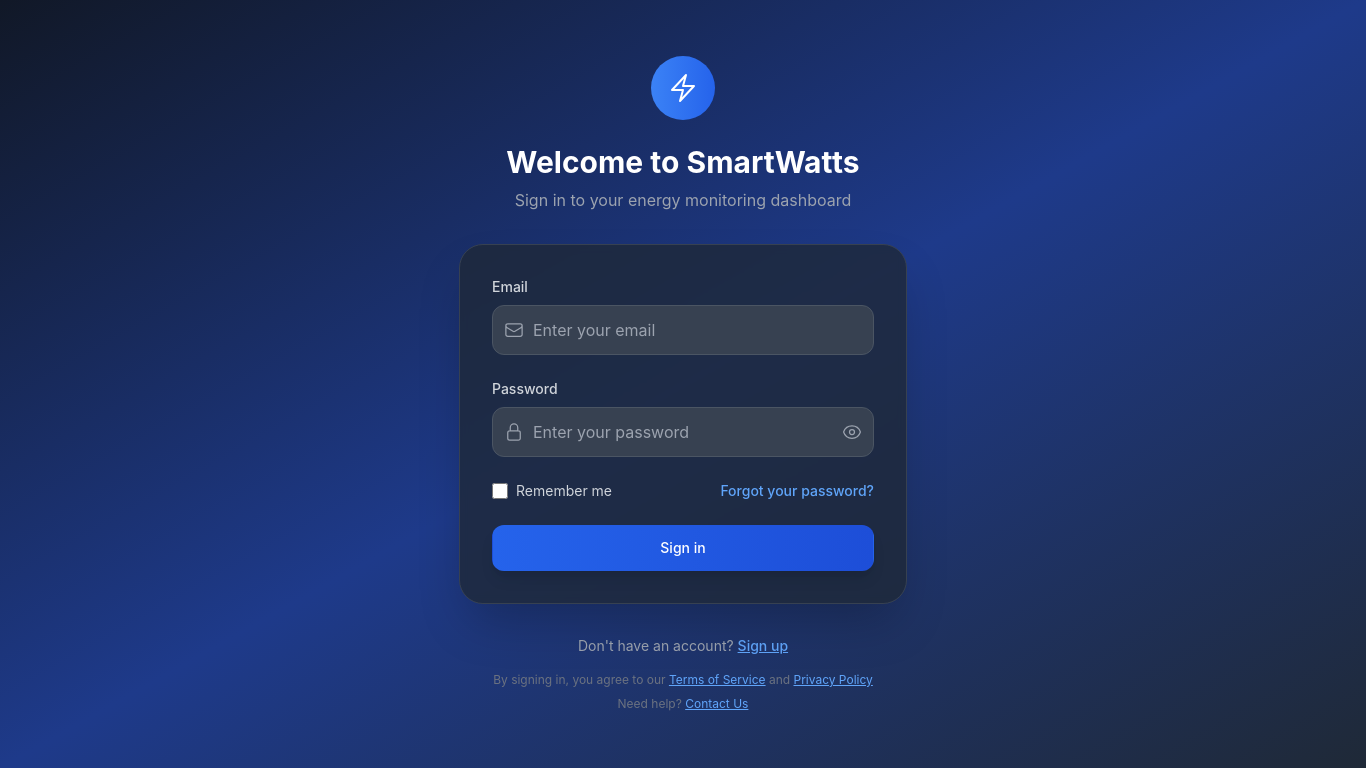
Test: Login Page › validates password length
Step 1. Type "test@example.com" into the field labelled "Email" → (683, 330), box [492,305,874,355]
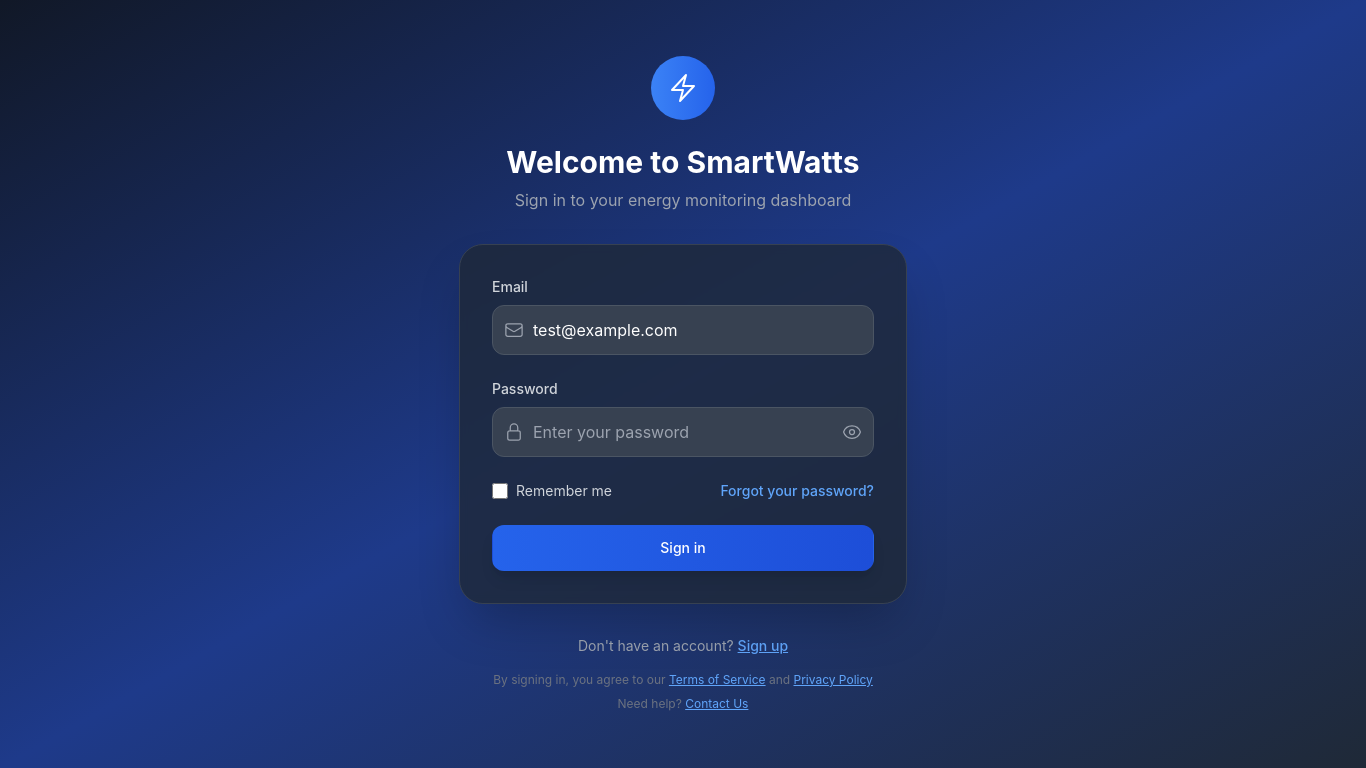
Step 2. Type "12345" into the password field labelled "Password" → (683, 432), box [492,407,874,457]
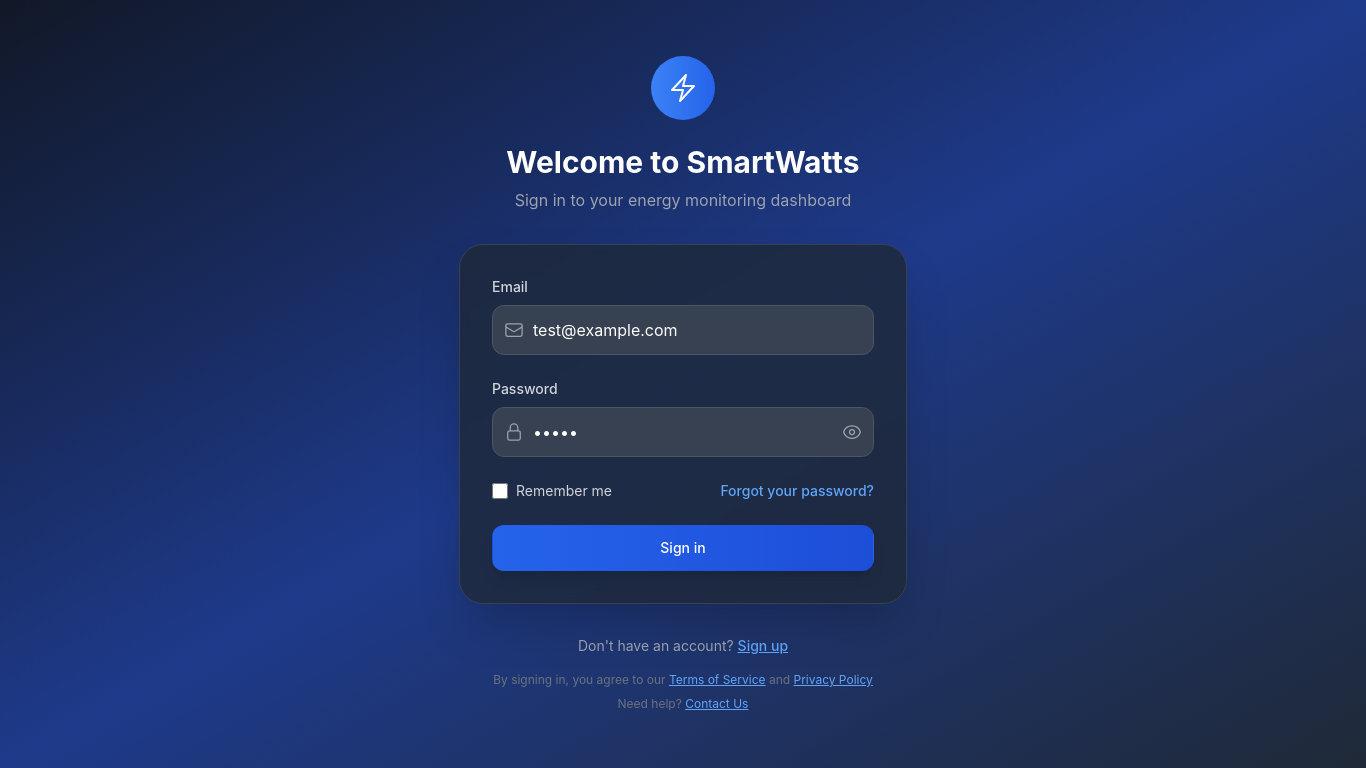
Step 3. Click the button "Sign in" → (683, 548), box [492,525,874,571]
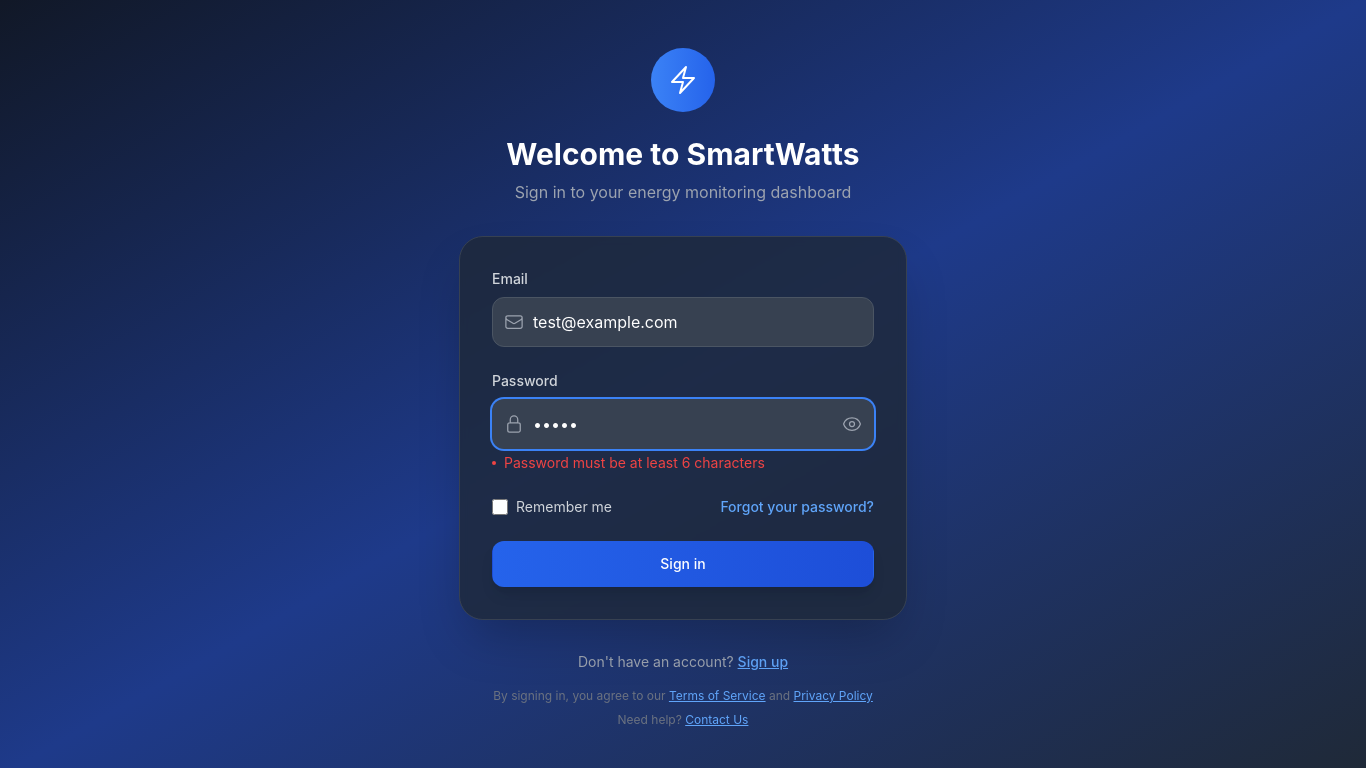
Expected: the text "Password must be at least 6 characters" is shown, [492,454,765,471]
